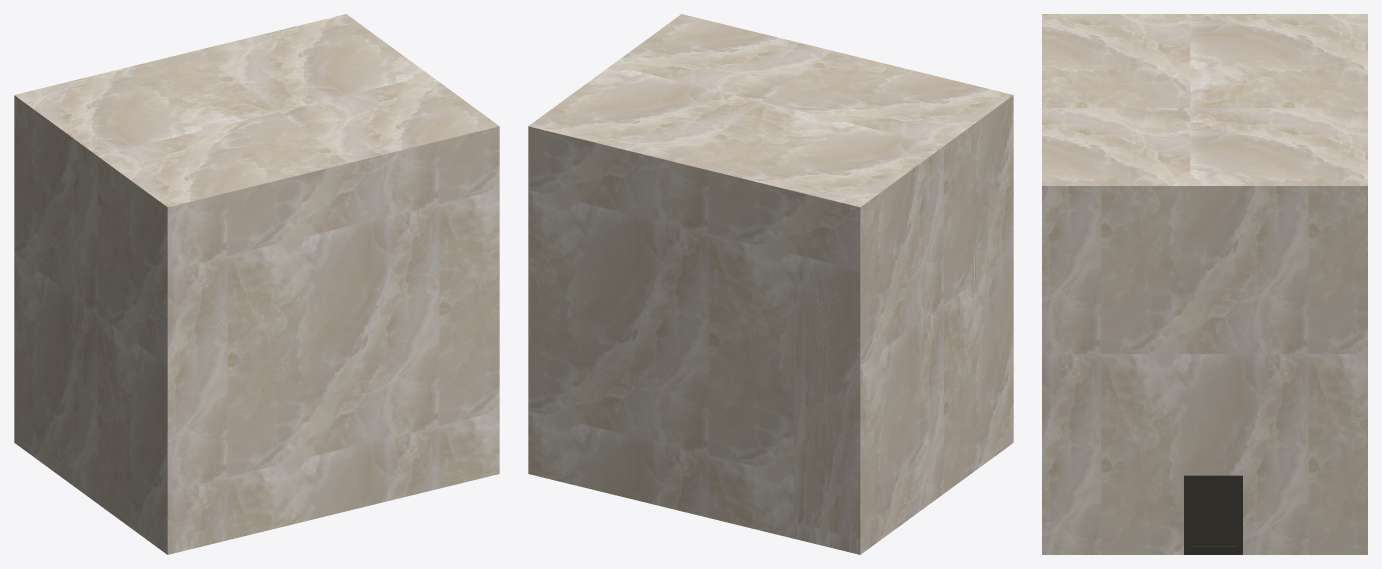
Rendered from Small Room 1.fbx.
3 renders of one model, left to right at view 1: azimuth 30°, elevation 25°; view 2: azimuth 150°, elevation 25°; view 3: azimuth 270°, elevation 25°, orthographic. The views are drawn at different scales.
Visible parts, largest first — view 1: Cube.022, Cube.023; view 2: Cube.022, Cube.023; view 3: Cube.022, Cube.024.
Boxes of the visible parts, x1,y1,x2,y2 form: Cube.022: [14, 14, 499, 554]; Cube.023: [14, 173, 233, 554]; Cube.022: [528, 14, 1013, 553]; Cube.023: [794, 170, 1013, 554]; Cube.022: [1042, 14, 1367, 554]; Cube.024: [1184, 475, 1242, 554].
Size of the model in its own units: 1000 by 1000 by 800.
2 materials, 1 textured.
